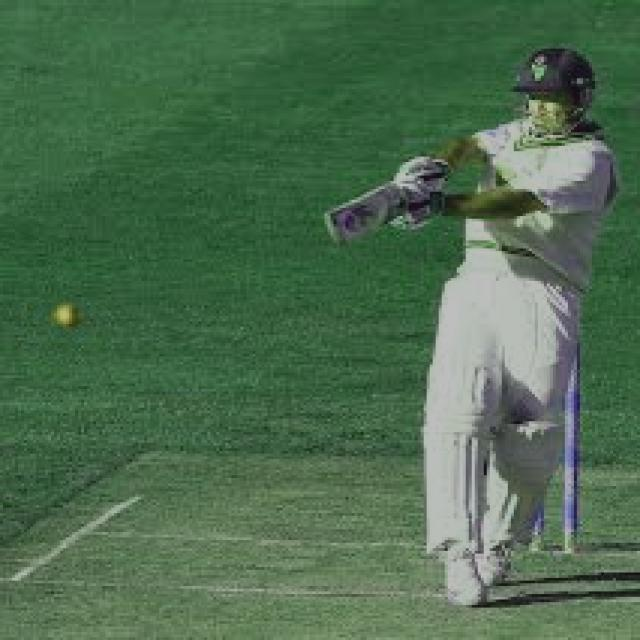toe: (318, 208, 358, 252)
